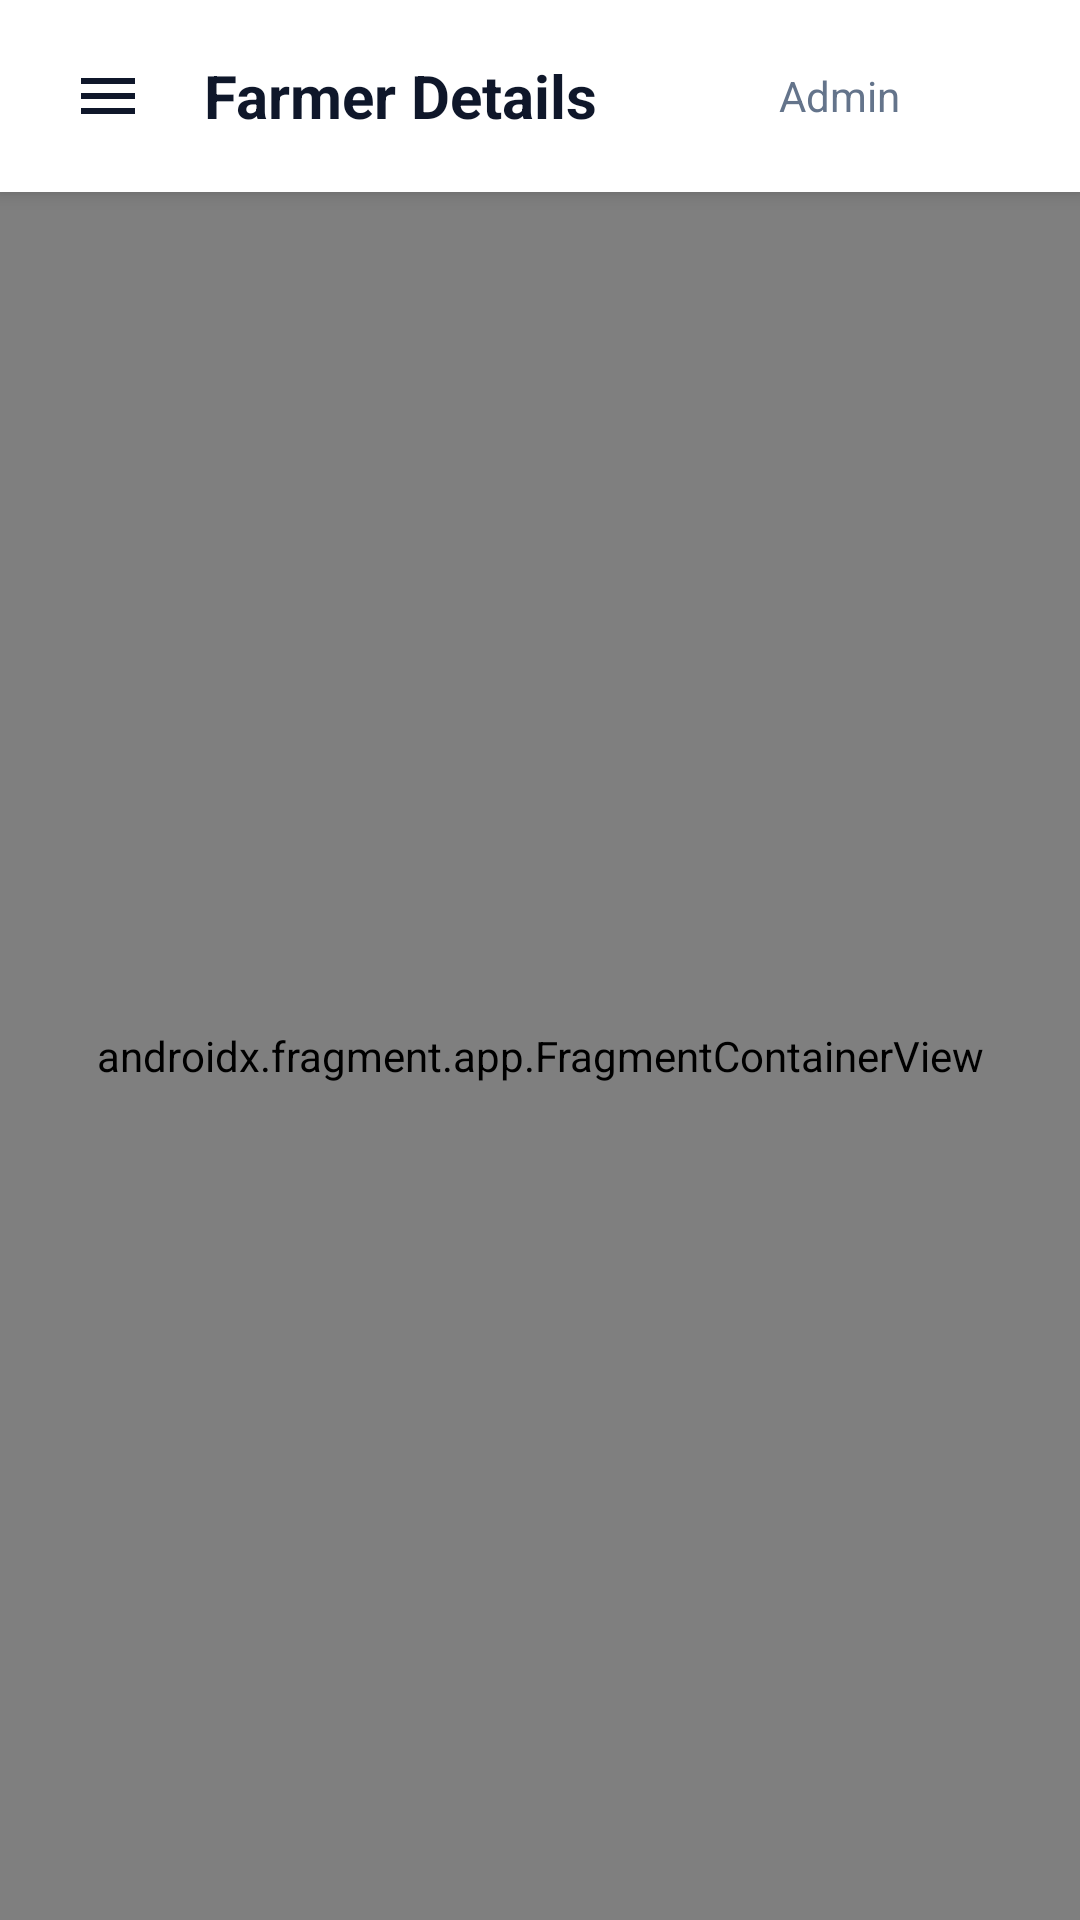

Icons on this 1080x1920 Android screen, each with its box as {"x1": x1, "y1": y1, "x2": x2, "y2": y2}:
Open Menu: {"x1": 81, "y1": 78, "x2": 135, "y2": 114}
